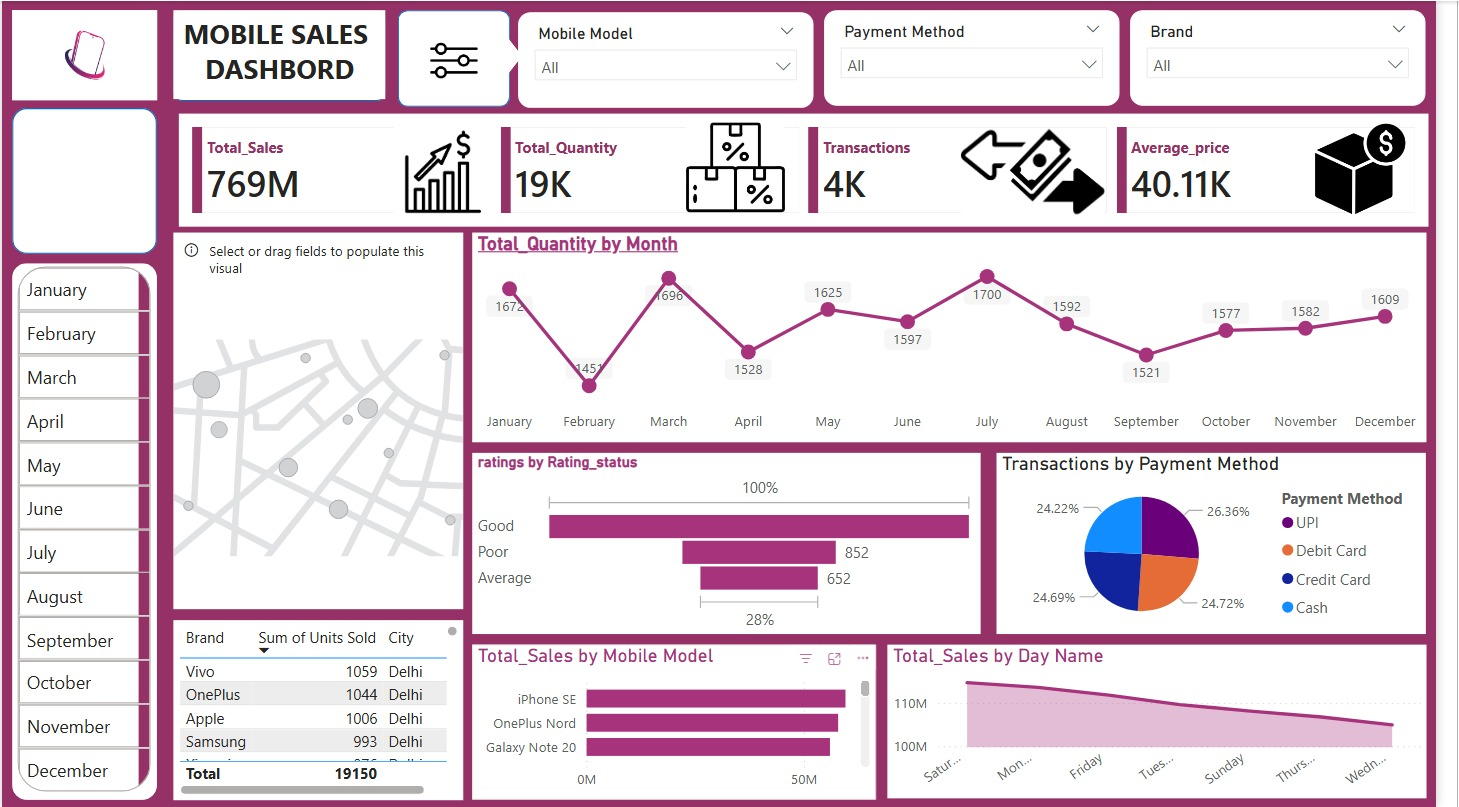

The page's visual inventory and layout, read from the dashboard file:
{"tool":"powerbi","page":{"name":"Dashboard","canvas":[1280,720],"ordinal":0},"visuals":[{"type":"image","box":[9,8,129.4,80.2],"z":0},{"type":"shape","box":[10,95.6,129.3,130.2],"z":1000},{"type":"shape","box":[8.9,233.6,129.1,479.1],"z":2000},{"type":"advancedSlicerVisual","fields":{"Values":["Custom_calender.Date.Variation.Date Hierarchy.Month"]},"box":[8.9,232.6,129.1,487],"z":3000},{"type":"cardVisual","fields":{"Data":["Sales_Data.Total_Sales","Sales_Data.Total_Quantity","Sales_Data.Transactions","Sales_Data.Average_price"]},"box":[153.1,96,1126.5,111.1],"z":4000},{"type":"image","box":[318.1,108,152.1,88],"z":5000},{"type":"image","box":[602.3,108,106,80],"z":6000},{"type":"image","box":[856.4,111.1,128.1,82],"z":7000},{"type":"image","box":[1153.7,103.9,117.9,91.9],"z":8000},{"type":"slicer","fields":{"Values":["Sales_Data.Mobile Model"]},"box":[460.4,9.9,264.2,85.8],"z":9000},{"type":"slicer","fields":{"Values":["Sales_Data.Payment Method"]},"box":[734.4,7.9,264.2,85.8],"z":10000},{"type":"slicer","fields":{"Values":["Sales_Data.Brand"]},"box":[1007.5,7.9,264.2,85.8],"z":11000},{"type":"shape","box":[353,8,100.3,86.2],"z":12000},{"type":"shape","box":[403.1,10,61.2,78.2],"z":13000},{"type":"image","box":[364,16,78.2,73.2],"z":14000},{"type":"shape","box":[153.4,8,189.5,81.2],"z":15000},{"type":"textbox","box":[153.4,8,189.5,79.2],"z":16000},{"type":"map","box":[152.7,206.6,258.5,336.4],"z":17000},{"type":"lineChart","fields":{"Category":["Custom_calender.Date.Variation.Date Hierarchy.Month"],"Y":["Sales_Data.Total_Quantity"]},"box":[420.2,207.1,851.5,186.9],"z":18000},{"type":"funnel","title":"ratings by Rating_status","fields":{"Category":["Sales_Data.Rating_status"],"Y":["CountNonNull(Sales_Data.Customer Ratings)"]},"box":[419.8,403.4,453.5,162.1],"z":19000},{"type":"pieChart","fields":{"Category":["Sales_Data.Payment Method"],"Y":["Sales_Data.Transactions"]},"box":[887.9,403.4,383.4,162.1],"z":20000},{"type":"clusteredBarChart","fields":{"Y":["Sales_Data.Total_Sales"],"Category":["Sales_Data.Mobile Model"]},"box":[420.2,574.6,360,138.4],"z":21000},{"type":"areaChart","fields":{"Y":["Sales_Data.Total_Sales"],"Category":["Custom_calender.Day Name"]},"box":[790.5,574.9,481.1,137.7],"z":22000},{"type":"tableEx","fields":{"Values":["Sales_Data.Brand","Sum(Sales_Data.Units Sold)"]},"box":[146.6,558.2,265,153.9],"z":23000},{"type":"pageNavigator","box":[16.4,103.8,122,122],"z":23001}]}

Visuals, with their boxes in screenshot pixels (x1, y1, x2, y2), scaled from the page's 1280x720 canvas onto the 1459x807 screenshot:
image: crop(10, 9, 158, 99)
shape: crop(11, 107, 159, 253)
shape: crop(10, 262, 157, 799)
advancedSlicerVisual - Custom_calender.Date.Variation.Date Hierarchy.Month: crop(10, 261, 157, 806)
cardVisual - Sales_Data.Total_Sales x Sales_Data.Total_Quantity: crop(175, 108, 1458, 232)
image: crop(363, 121, 536, 220)
image: crop(687, 121, 807, 211)
image: crop(976, 125, 1122, 216)
image: crop(1315, 116, 1449, 219)
slicer - Sales_Data.Mobile Model: crop(525, 11, 826, 107)
slicer - Sales_Data.Payment Method: crop(837, 9, 1138, 105)
slicer - Sales_Data.Brand: crop(1148, 9, 1450, 105)
shape: crop(402, 9, 517, 106)
shape: crop(459, 11, 529, 99)
image: crop(415, 18, 504, 100)
shape: crop(175, 9, 391, 100)
textbox: crop(175, 9, 391, 98)
map: crop(174, 232, 469, 609)
lineChart - Custom_calender.Date.Variation.Date Hierarchy.Month x Sales_Data.Total_Quantity: crop(479, 232, 1450, 442)
"ratings by Rating_status" funnel: crop(479, 452, 995, 634)
pieChart - Sales_Data.Payment Method x Sales_Data.Transactions: crop(1012, 452, 1449, 634)
clusteredBarChart - Sales_Data.Total_Sales x Sales_Data.Mobile Model: crop(479, 644, 889, 799)
areaChart - Sales_Data.Total_Sales x Custom_calender.Day Name: crop(901, 644, 1449, 799)
tableEx - Sales_Data.Brand x Sum(Sales_Data.Units Sold): crop(167, 626, 469, 798)
pageNavigator: crop(19, 116, 158, 253)
